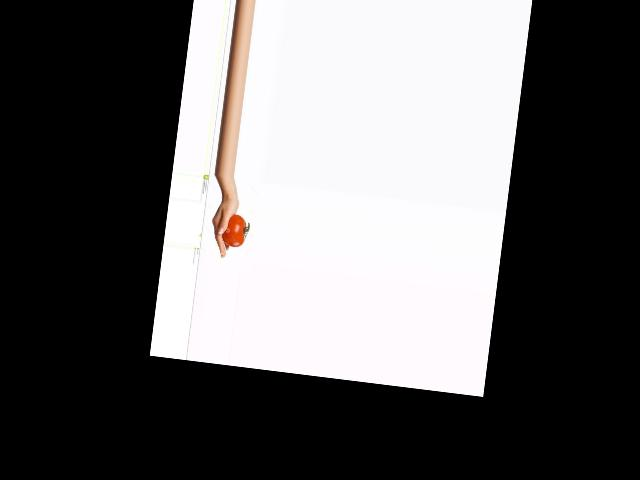tomato: (220, 213, 247, 248)
